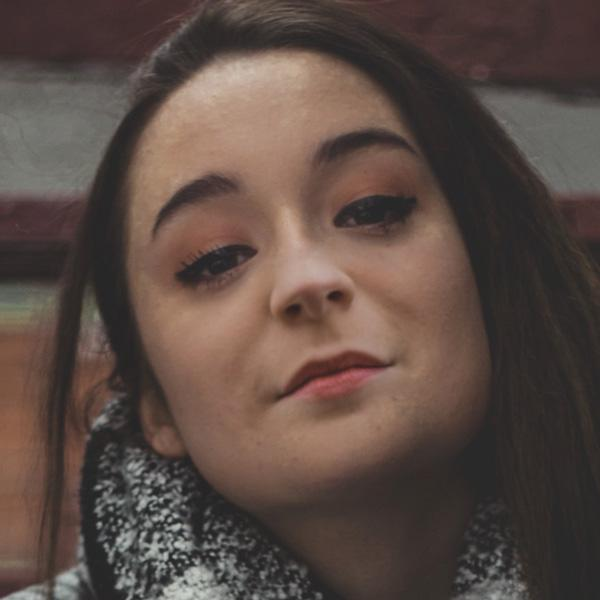Eyes: (318, 171, 425, 249), (164, 221, 269, 299)
